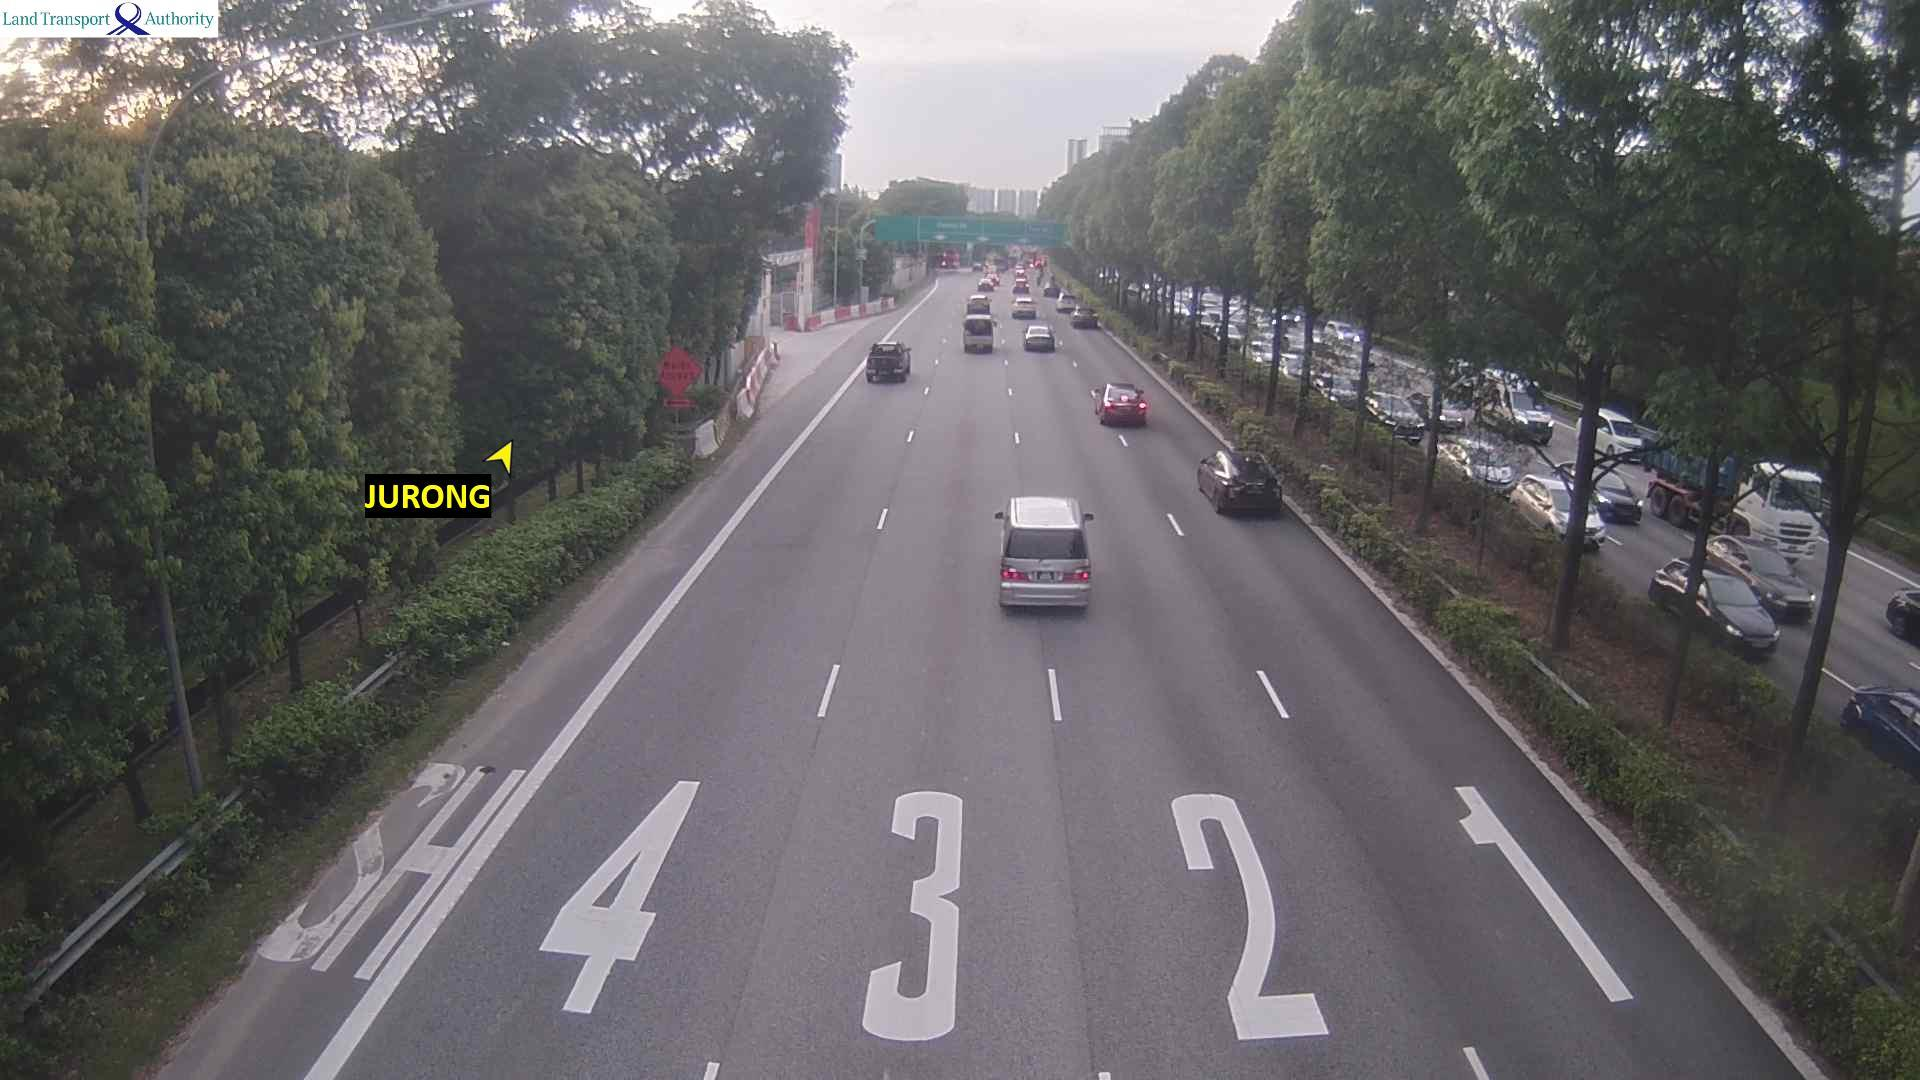incoming: (1704, 575, 1782, 647), (1747, 538, 1817, 614), (1766, 477, 1822, 551), (1592, 473, 1646, 521)
